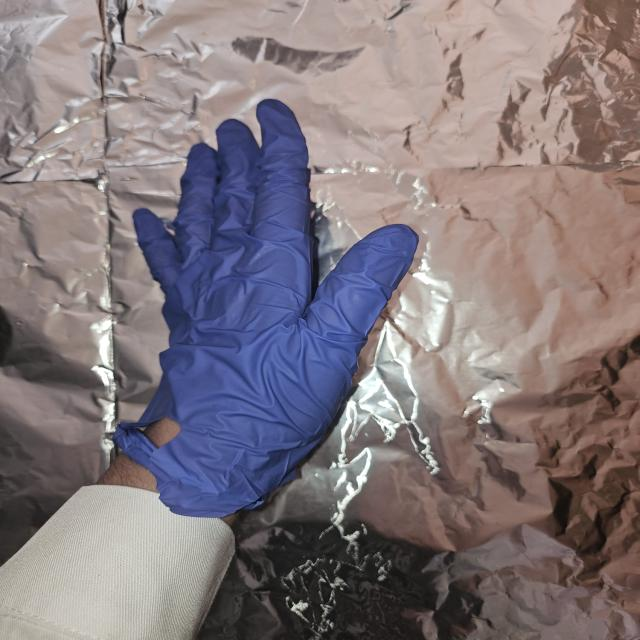gloves_damaged: (110, 98, 422, 513)
